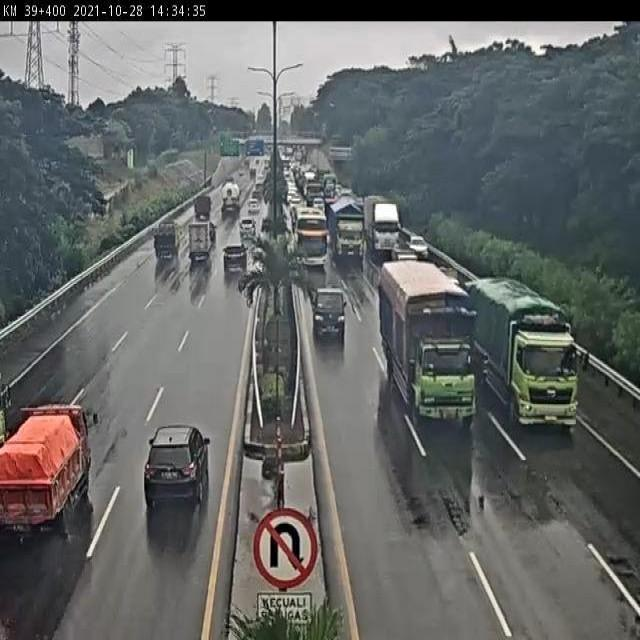big bus: (294, 203, 329, 265)
big truck: (471, 273, 591, 431), (375, 261, 472, 420), (0, 407, 100, 549), (327, 193, 365, 264), (366, 188, 399, 252)
car: (143, 424, 212, 511), (312, 281, 347, 343), (185, 222, 211, 274), (150, 221, 176, 268), (219, 252, 248, 281), (189, 192, 213, 223), (237, 220, 258, 251), (401, 229, 424, 252)
